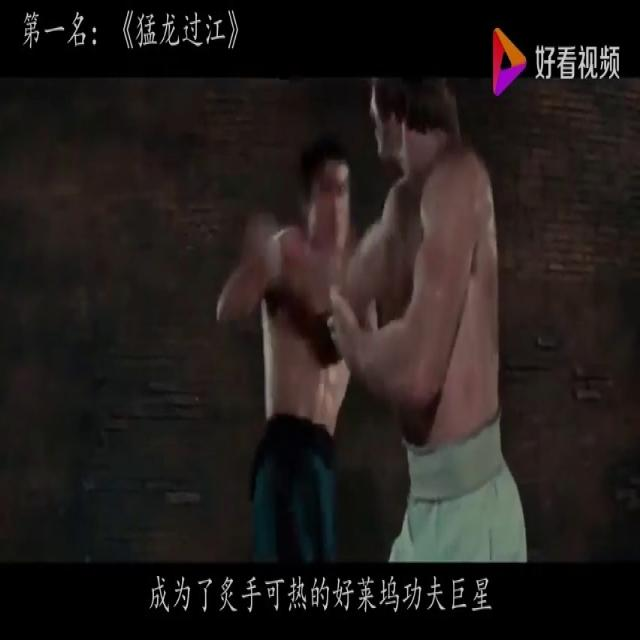fight: (190, 73, 542, 571)
